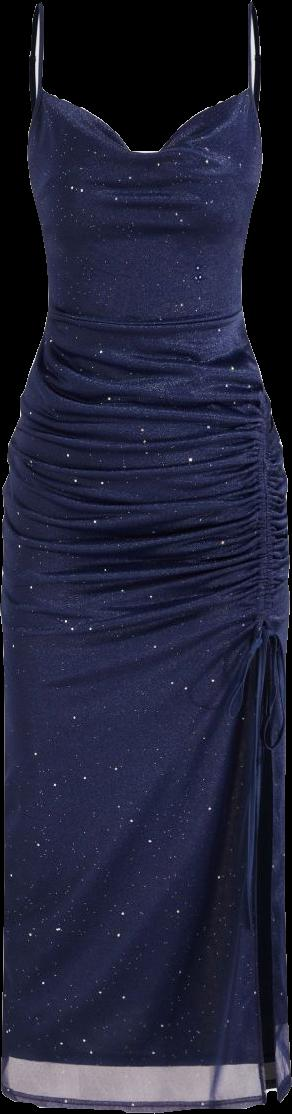Bodice: (27, 1, 262, 334)
Hemline: (0, 1082, 291, 1112)
Neckline: (30, 0, 261, 161)
Skirt: (1, 321, 290, 1111)
